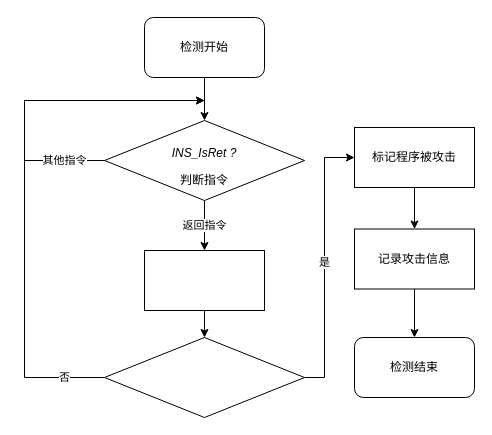
Image size: 492x435. Some labels were removed from this diagram. The box of each missing label's shape, as (x1, y1, x2, y2) in pixels:
插入回调函数 INS_InsertCall(): (144, 250, 264, 310)
目标地址是否为libc函数地址？: (104, 336, 304, 418)
